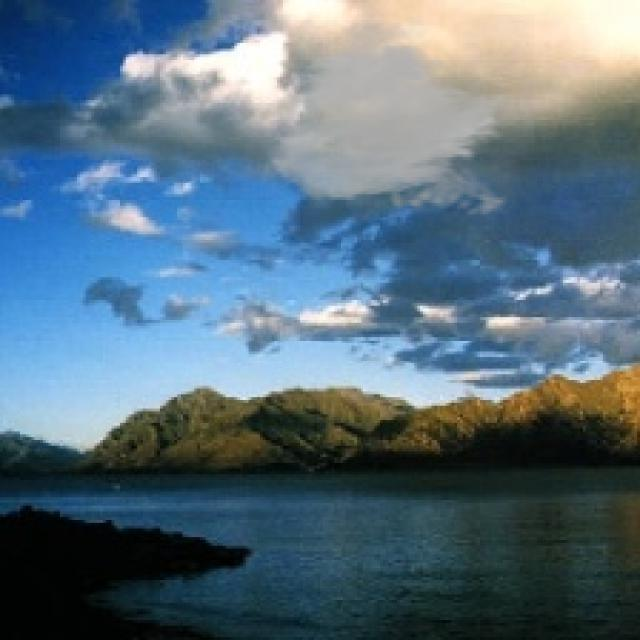Smoke: (262, 14, 534, 223)
